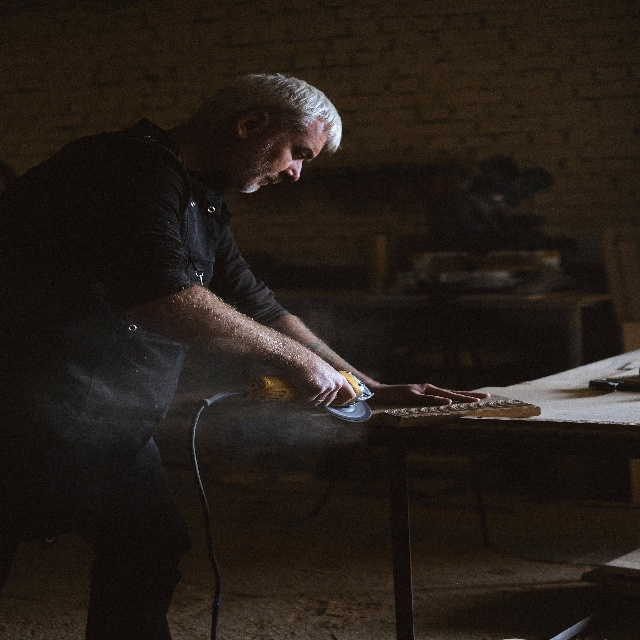Sin_guantes: (293, 345, 356, 410), (374, 375, 490, 410)
